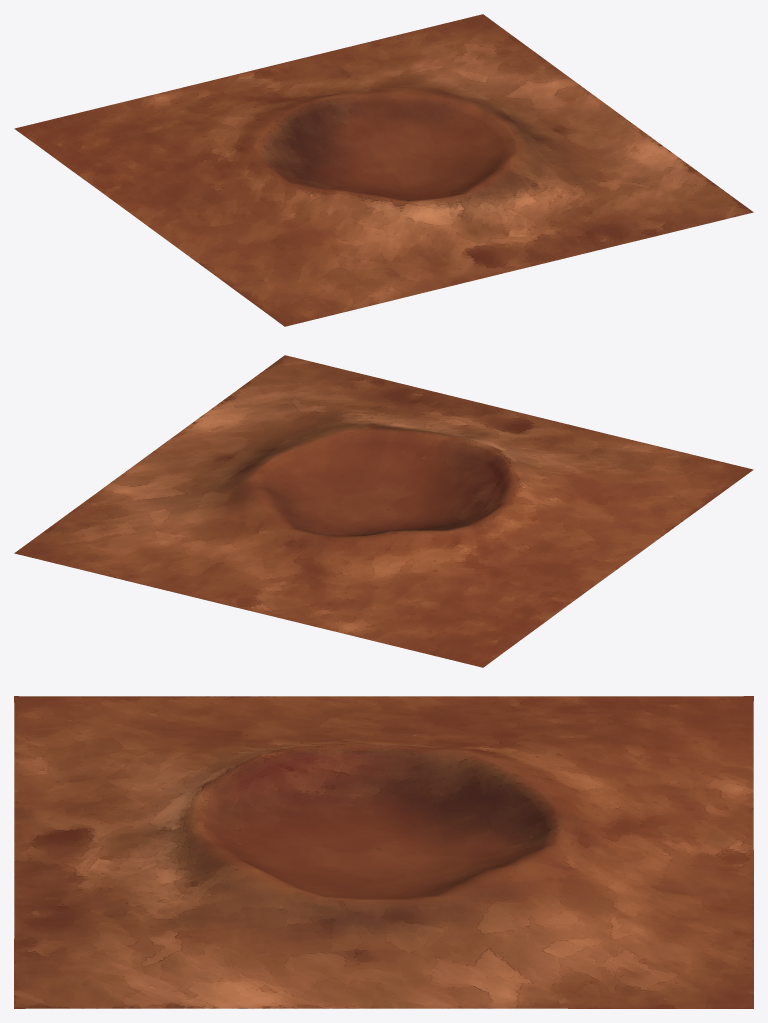
File: Crater.glb
3 renders of one model, top to bottom at view 1: azimuth 30°, elevation 25°; view 2: azimuth 150°, elevation 25°; view 3: azimuth 270°, elevation 25°, orthographic. The views are drawn at different scales.
Parts seen in each view (by area): view 1: Crater; view 2: Crater; view 3: Crater.
Boxes of the visible parts, left/top/right/bottom form: Crater: left=14, top=14, right=753, bottom=326; Crater: left=14, top=355, right=753, bottom=667; Crater: left=14, top=696, right=753, bottom=1008.
Bounding box in the file's own units: 147 × 9.52 × 147.
Materials: 1 (1 with a texture image).
